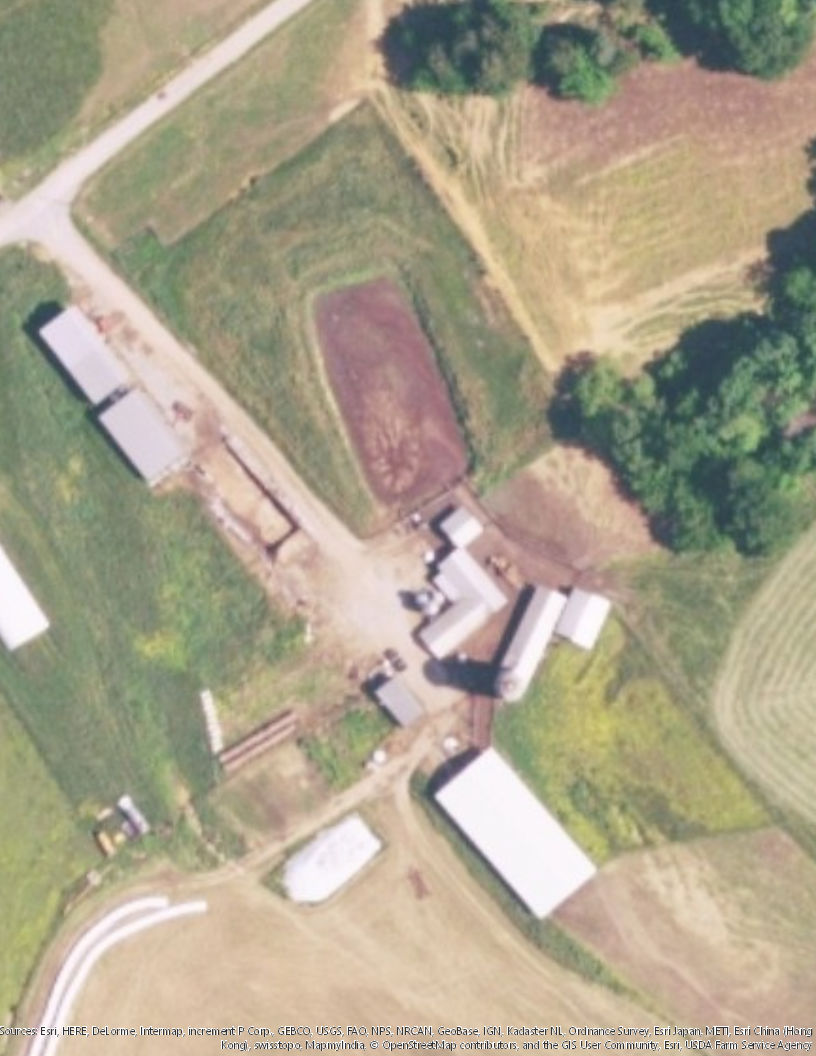cafo: (430, 741, 607, 927), (481, 585, 617, 703), (412, 506, 507, 659), (93, 378, 198, 491), (38, 301, 134, 408), (1, 538, 56, 651)
